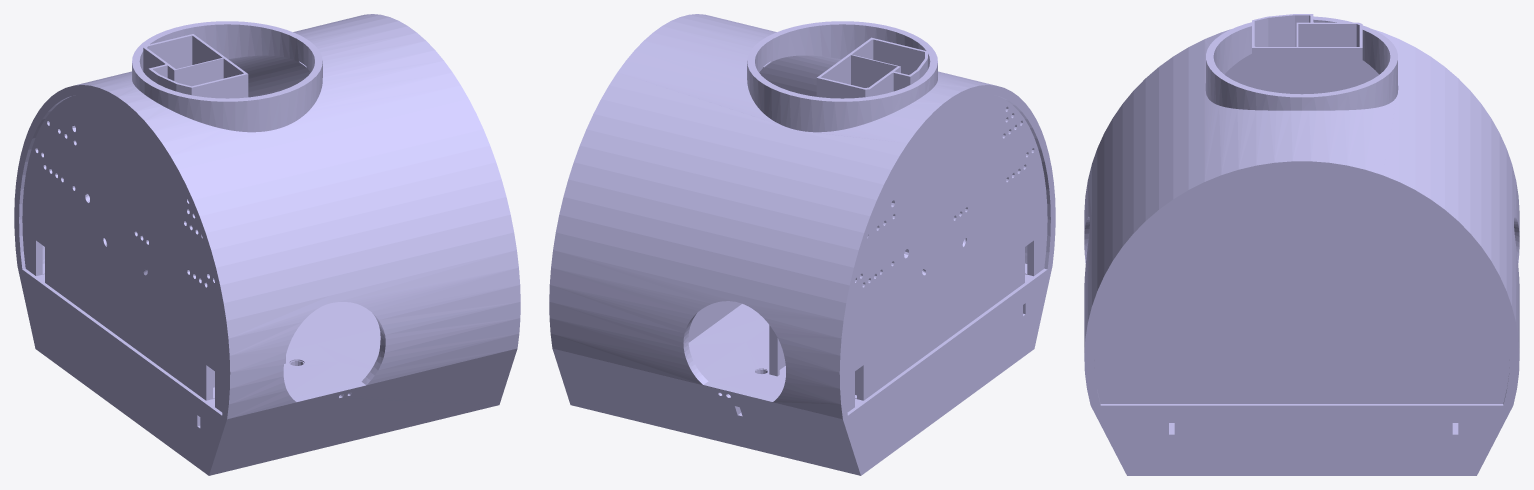
The picture shows the model from 3 angles, left to right: view 1: azimuth 30°, elevation 25°; view 2: azimuth 150°, elevation 25°; view 3: azimuth 270°, elevation 25°; orthographic projection.
Visible parts, largest first — view 1: null; view 2: null; view 3: null.
Boxes of the visible parts, x1,y1,x2,y2 form: null: [14, 14, 520, 475]; null: [549, 14, 1055, 475]; null: [1084, 14, 1519, 475].
Size of the model in its own units: 17.4 by 19 by 22.4.
